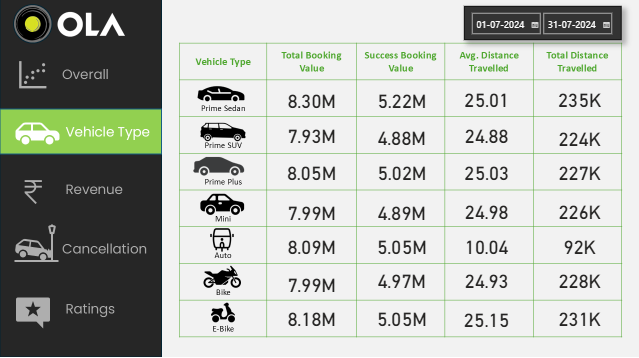

This screenshot's page, from the dashboard's own definition file:
{"tool":"powerbi","page":{"name":"Vehicle Type","canvas":[1280,720],"ordinal":1},"visuals":[{"type":"actionButton","box":[0,217.4,322.6,89.3],"z":0},{"type":"actionButton","box":[0,344.2,322.6,70.6],"z":1000},{"type":"actionButton","box":[0,447.8,322.6,92.2],"z":2000},{"type":"actionButton","box":[0,580.3,322.6,92.2],"z":3000},{"type":"actionButton","box":[0,110.9,322.6,89.3],"z":4000},{"type":"card","fields":{"Values":["Sum(July.Booking_Value)"]},"box":[538.6,167.1,170,68.6],"z":5000},{"type":"card","fields":{"Values":["Sum(July.Booking_Value)"]},"box":[537.1,604.3,170,68.6],"z":6000},{"type":"card","fields":{"Values":["Sum(July.Booking_Value)"]},"box":[538.6,535.7,170,68.6],"z":7000},{"type":"card","fields":{"Values":["Sum(July.Booking_Value)"]},"box":[537.1,460,170,68.6],"z":8000},{"type":"card","fields":{"Values":["Sum(July.Booking_Value)"]},"box":[538.6,391.4,170,68.6],"z":9000},{"type":"card","fields":{"Values":["Sum(July.Booking_Value)"]},"box":[538.6,311.4,170,68.6],"z":10000},{"type":"card","fields":{"Values":["Sum(July.Booking_Value)"]},"box":[538.6,237.1,170,68.6],"z":11000},{"type":"card","fields":{"Values":["Sum(July.Booking_Value)"]},"box":[718.6,168.6,170,68.6],"z":12000},{"type":"card","fields":{"Values":["Sum(July.Booking_Value)"]},"box":[718.6,604.3,170,68.6],"z":13000},{"type":"card","fields":{"Values":["Sum(July.Booking_Value)"]},"box":[718.6,528.6,170,68.6],"z":14000},{"type":"card","fields":{"Values":["Sum(July.Booking_Value)"]},"box":[718.6,460,170,68.6],"z":15000},{"type":"card","fields":{"Values":["Sum(July.Booking_Value)"]},"box":[718.6,391.4,170,68.6],"z":16000},{"type":"card","fields":{"Values":["Sum(July.Booking_Value)"]},"box":[718.6,311.4,170,68.6],"z":17000},{"type":"card","fields":{"Values":["Sum(July.Booking_Value)"]},"box":[718.6,242.9,170,68.6],"z":18000},{"type":"card","fields":{"Values":["Avg(July.Ride_Distance)"]},"box":[888.3,166.7,170,68.3],"z":19000},{"type":"card","fields":{"Values":["Avg(July.Ride_Distance)"]},"box":[888.3,605,170,68.3],"z":20000},{"type":"card","fields":{"Values":["Avg(July.Ride_Distance)"]},"box":[888.3,528.3,170,68.3],"z":21000},{"type":"card","fields":{"Values":["Avg(July.Ride_Distance)"]},"box":[888.3,460,170,68.3],"z":22000},{"type":"card","fields":{"Values":["Avg(July.Ride_Distance)"]},"box":[888.3,390,170,68.3],"z":23000},{"type":"card","fields":{"Values":["Avg(July.Ride_Distance)"]},"box":[888.3,311.7,170,68.3],"z":24000},{"type":"card","fields":{"Values":["Avg(July.Ride_Distance)"]},"box":[888.3,238.3,170,68.3],"z":25000},{"type":"card","fields":{"Values":["Sum(July.Ride_Distance)"]},"box":[1073.3,166.7,170,68.3],"z":26000},{"type":"card","fields":{"Values":["Sum(July.Ride_Distance)"]},"box":[1073.3,243.3,170,68.3],"z":27000},{"type":"card","fields":{"Values":["Sum(July.Ride_Distance)"]},"box":[1073.3,311.7,170,68.3],"z":28000},{"type":"card","fields":{"Values":["Sum(July.Ride_Distance)"]},"box":[1073.3,390,170,68.3],"z":29000},{"type":"card","fields":{"Values":["Sum(July.Ride_Distance)"]},"box":[1073.3,460,170,68.3],"z":30000},{"type":"card","fields":{"Values":["Sum(July.Ride_Distance)"]},"box":[1073.3,528.3,170,68.3],"z":31000},{"type":"card","fields":{"Values":["Sum(July.Ride_Distance)"]},"box":[1073.3,603.3,170,68.3],"z":32000},{"type":"slicer","title":"Date","fields":{"Values":["July.Date"]},"box":[928.3,13.3,315,68],"z":32001}]}

Visuals, with their boxes on the page's 1280x720 design canvas (x1, y1, x2, y2). These are canvas units, not pixel positions in the 639x358 screenshot, which may show the page scaled, cropped or inside an application window:
actionButton: <box>0,217,323,307</box>
actionButton: <box>0,344,323,415</box>
actionButton: <box>0,448,323,540</box>
actionButton: <box>0,580,323,672</box>
actionButton: <box>0,111,323,200</box>
card - Sum(July.Booking_Value): <box>539,167,709,236</box>
card - Sum(July.Booking_Value): <box>537,604,707,673</box>
card - Sum(July.Booking_Value): <box>539,536,709,604</box>
card - Sum(July.Booking_Value): <box>537,460,707,529</box>
card - Sum(July.Booking_Value): <box>539,391,709,460</box>
card - Sum(July.Booking_Value): <box>539,311,709,380</box>
card - Sum(July.Booking_Value): <box>539,237,709,306</box>
card - Sum(July.Booking_Value): <box>719,169,889,237</box>
card - Sum(July.Booking_Value): <box>719,604,889,673</box>
card - Sum(July.Booking_Value): <box>719,529,889,597</box>
card - Sum(July.Booking_Value): <box>719,460,889,529</box>
card - Sum(July.Booking_Value): <box>719,391,889,460</box>
card - Sum(July.Booking_Value): <box>719,311,889,380</box>
card - Sum(July.Booking_Value): <box>719,243,889,312</box>
card - Avg(July.Ride_Distance): <box>888,167,1058,235</box>
card - Avg(July.Ride_Distance): <box>888,605,1058,673</box>
card - Avg(July.Ride_Distance): <box>888,528,1058,597</box>
card - Avg(July.Ride_Distance): <box>888,460,1058,528</box>
card - Avg(July.Ride_Distance): <box>888,390,1058,458</box>
card - Avg(July.Ride_Distance): <box>888,312,1058,380</box>
card - Avg(July.Ride_Distance): <box>888,238,1058,307</box>
card - Sum(July.Ride_Distance): <box>1073,167,1243,235</box>
card - Sum(July.Ride_Distance): <box>1073,243,1243,312</box>
card - Sum(July.Ride_Distance): <box>1073,312,1243,380</box>
card - Sum(July.Ride_Distance): <box>1073,390,1243,458</box>
card - Sum(July.Ride_Distance): <box>1073,460,1243,528</box>
card - Sum(July.Ride_Distance): <box>1073,528,1243,597</box>
card - Sum(July.Ride_Distance): <box>1073,603,1243,672</box>
"Date" slicer: <box>928,13,1243,81</box>
